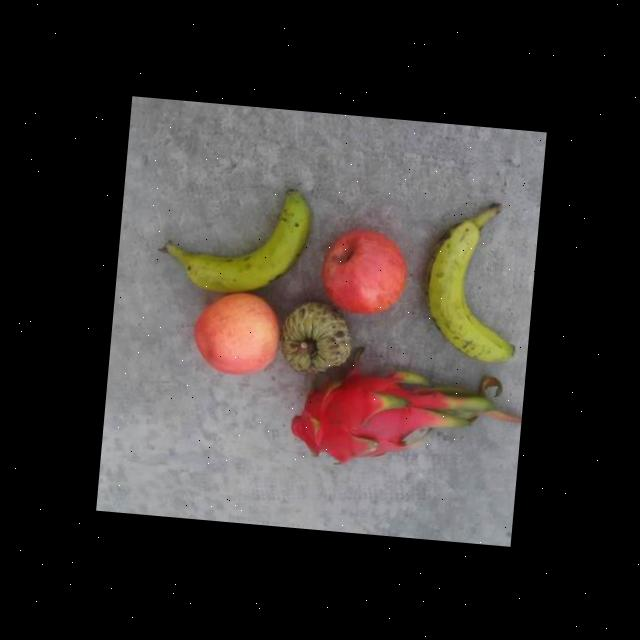Sakya fruit: (272, 296, 356, 379)
apple: (180, 286, 290, 381), (318, 222, 409, 318)
banana: (417, 198, 534, 364), (162, 182, 318, 298)
pitaya: (286, 352, 426, 478)
